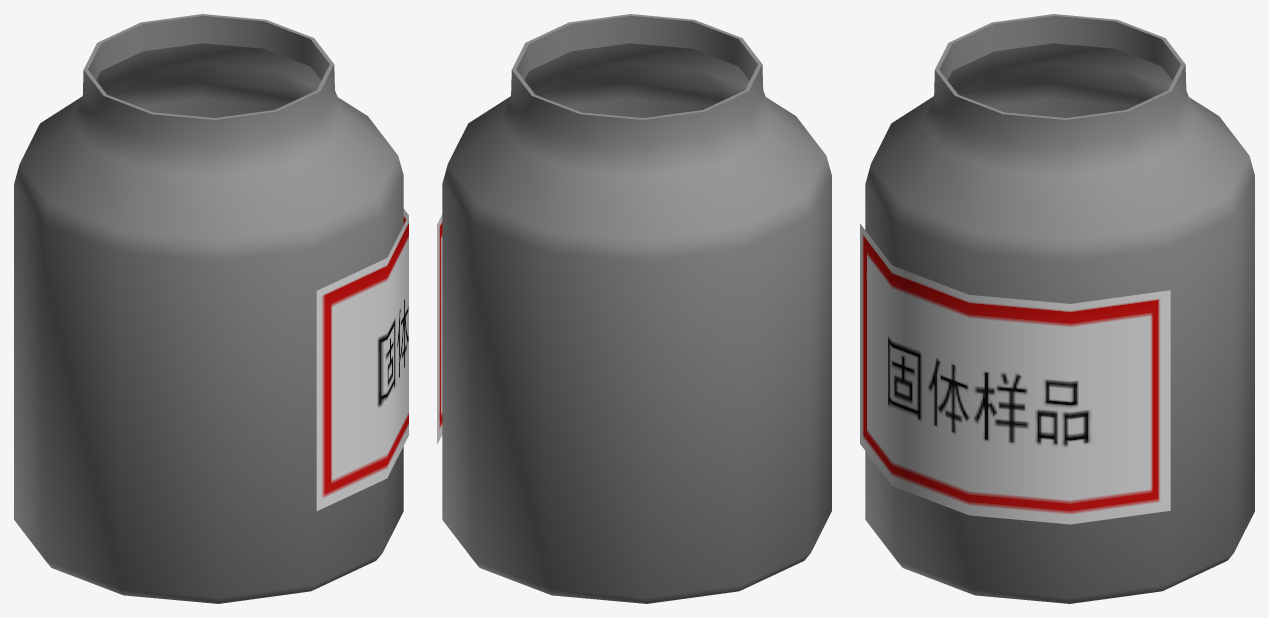
Rendered from SM_牦牛肉瓶子_瓶体.FBX.
3 views of the same model, side by side, from view 1: azimuth 30°, elevation 25°; view 2: azimuth 150°, elevation 25°; view 3: azimuth 270°, elevation 25° (orthographic).
Parts seen in each view (by area): view 1: SM_牦牛肉瓶子_瓶体; view 2: SM_牦牛肉瓶子_瓶体; view 3: SM_牦牛肉瓶子_瓶体.
Part boxes in pixels (left/top/right/bottom): SM_牦牛肉瓶子_瓶体: left=14, top=14, right=408, bottom=603; SM_牦牛肉瓶子_瓶体: left=437, top=14, right=831, bottom=603; SM_牦牛肉瓶子_瓶体: left=860, top=14, right=1254, bottom=603.
Size of the model in its own units: 68.7 by 88.49 by 68.74.
